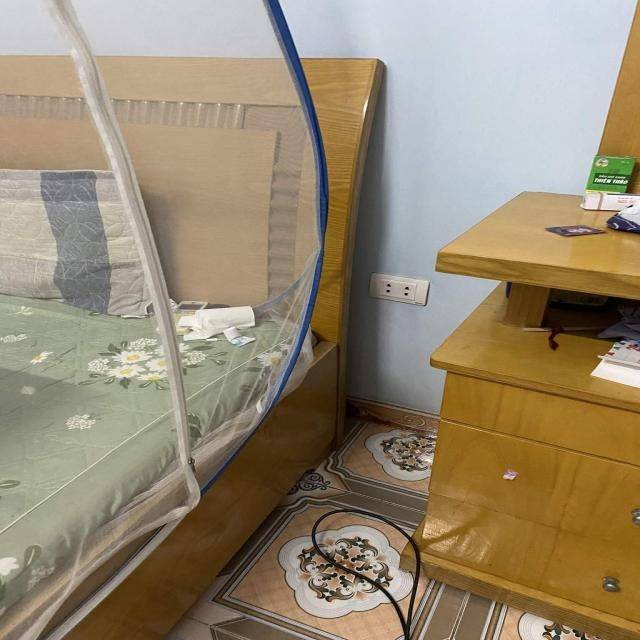outlet: (368, 272, 429, 306)
